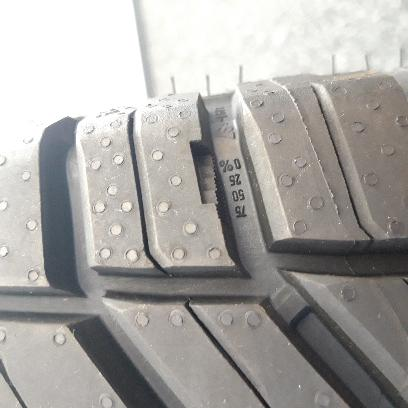temoin:100: (188, 138, 233, 224)
